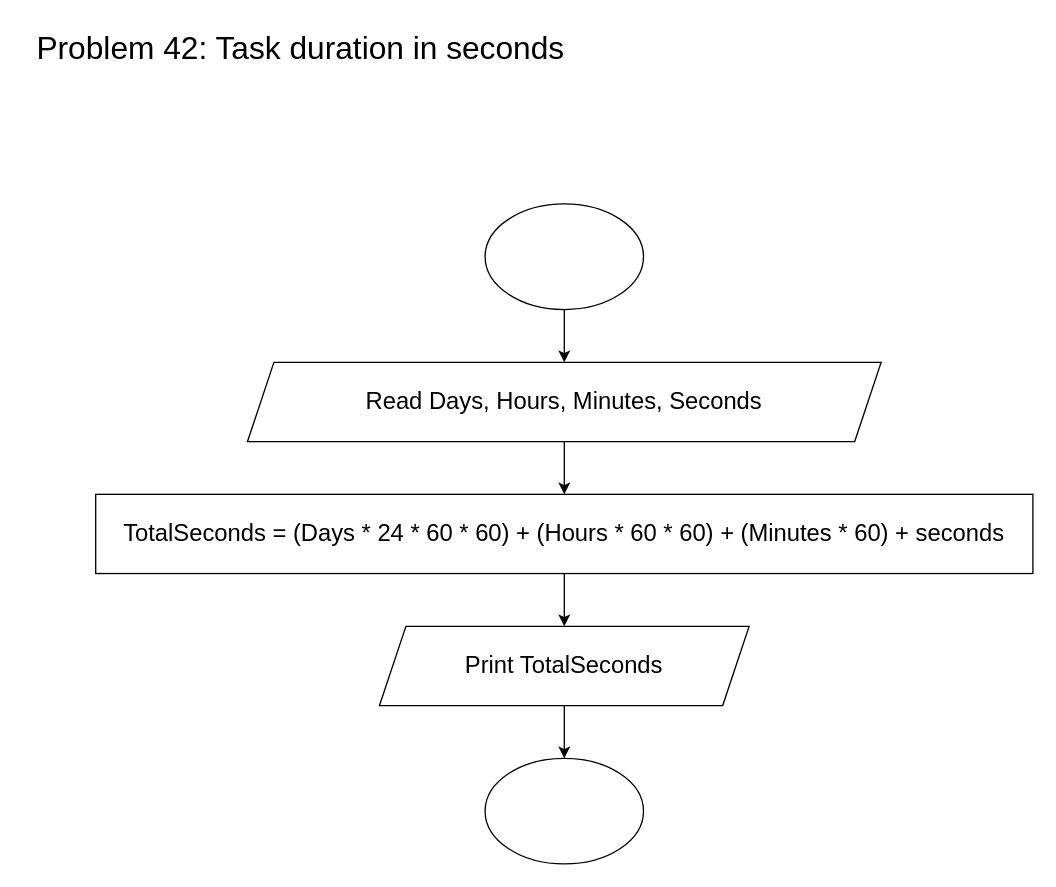
This 1056x887 diagram has some shape labels left out. Each missing label, with the centre of its shape:
"End" belongs at pixel 564 810.
"Start" belongs at pixel 564 256.
